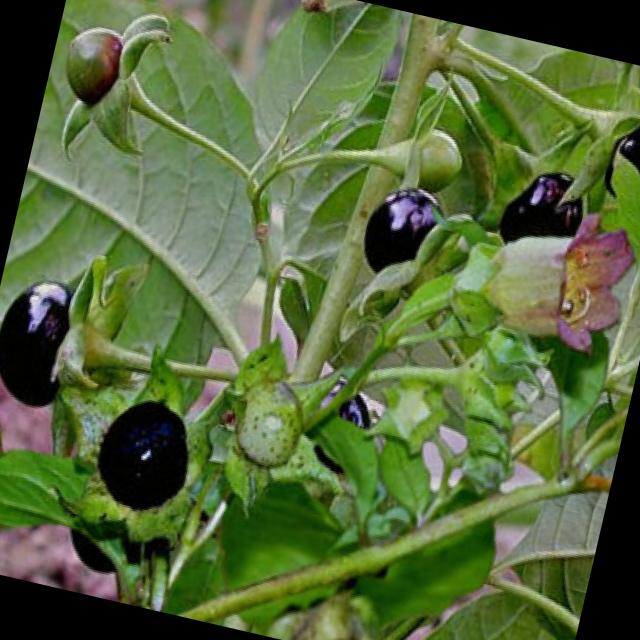Poisonous-Deadly_Nightshade: (278, 0, 640, 416), (0, 257, 382, 640), (7, 0, 328, 348)
